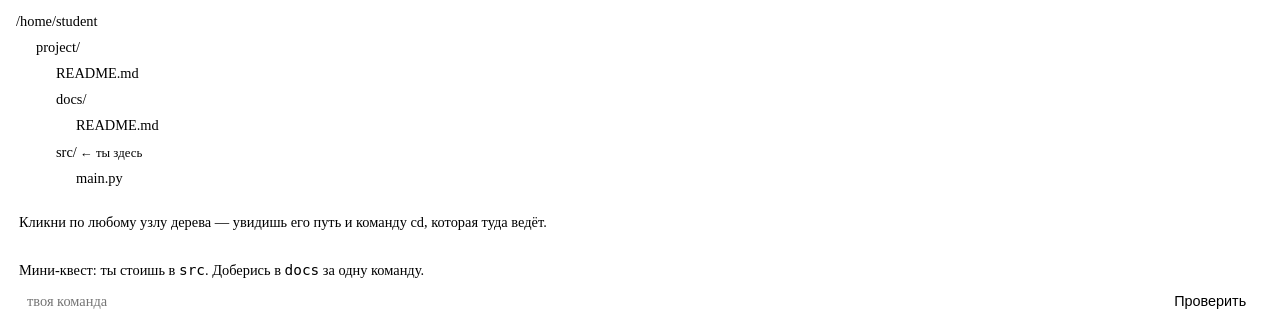
Test: квест: cd ../docs — «Выполнено!», запись в store и XP
Type "  cd   ../docs/ " into the field named "Команда для квеста" at (586, 302), box [19,287,1153,316]
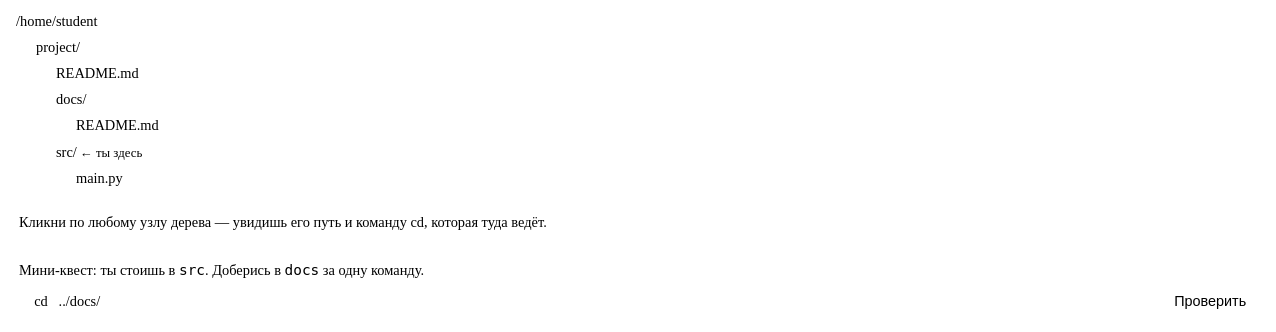
Click the button "Проверить" at (1210, 302), box [1161,287,1259,316]
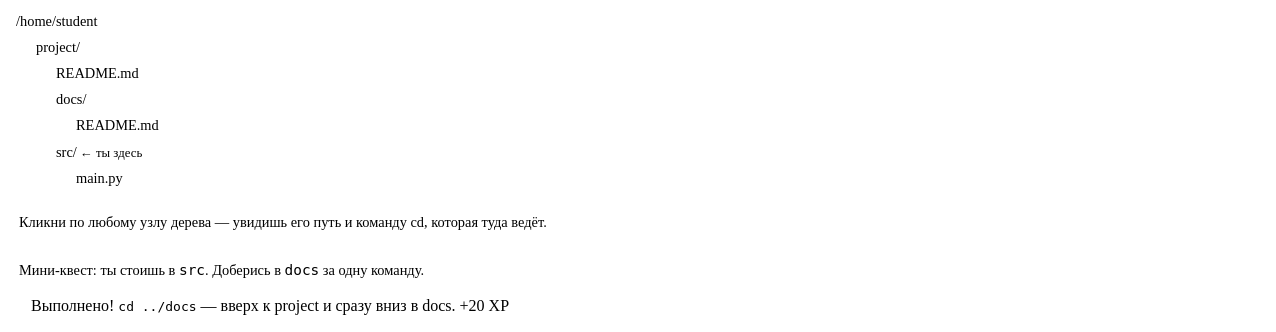
Check: the text "Выполнено!" is shown, box [31,297,118,314]
